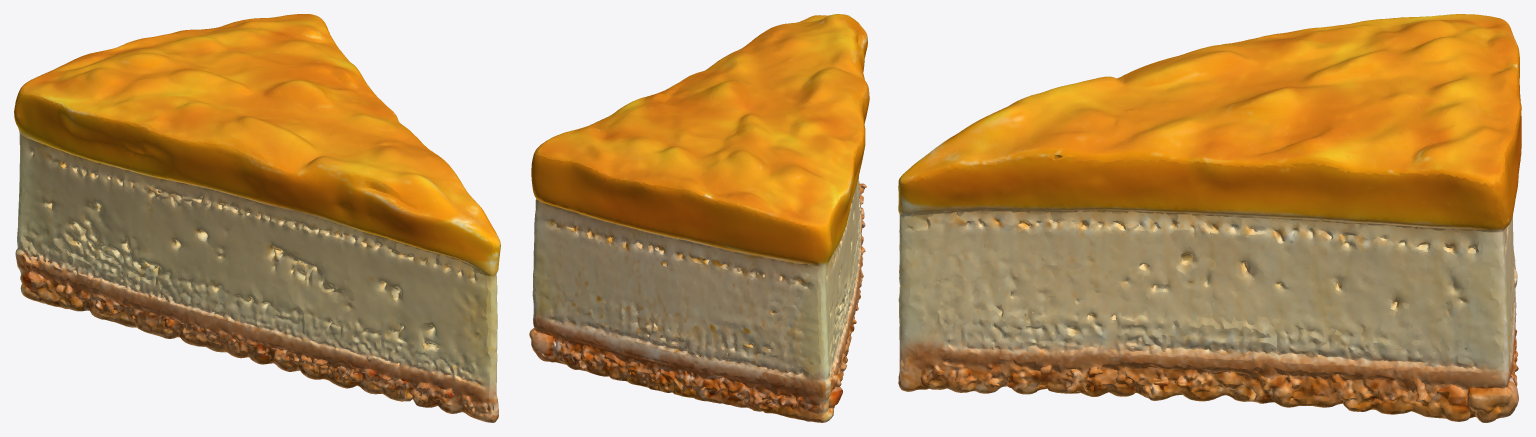
3 views of the same model, side by side, from view 1: azimuth 30°, elevation 25°; view 2: azimuth 150°, elevation 25°; view 3: azimuth 270°, elevation 25° (orthographic). The views are drawn at different scales.
Visible parts, largest first — view 1: FoodRedoV2Alignment-0; view 2: FoodRedoV2Alignment-0; view 3: FoodRedoV2Alignment-0.
Part boxes in pixels (<box>): FoodRedoV2Alignment-0: <box>14,14,500,422</box>; FoodRedoV2Alignment-0: <box>529,14,869,422</box>; FoodRedoV2Alignment-0: <box>898,14,1521,422</box>.
Bounding box in the file's own units: 0.1 × 0.074 × 0.1501.
1 material, 1 textured.
